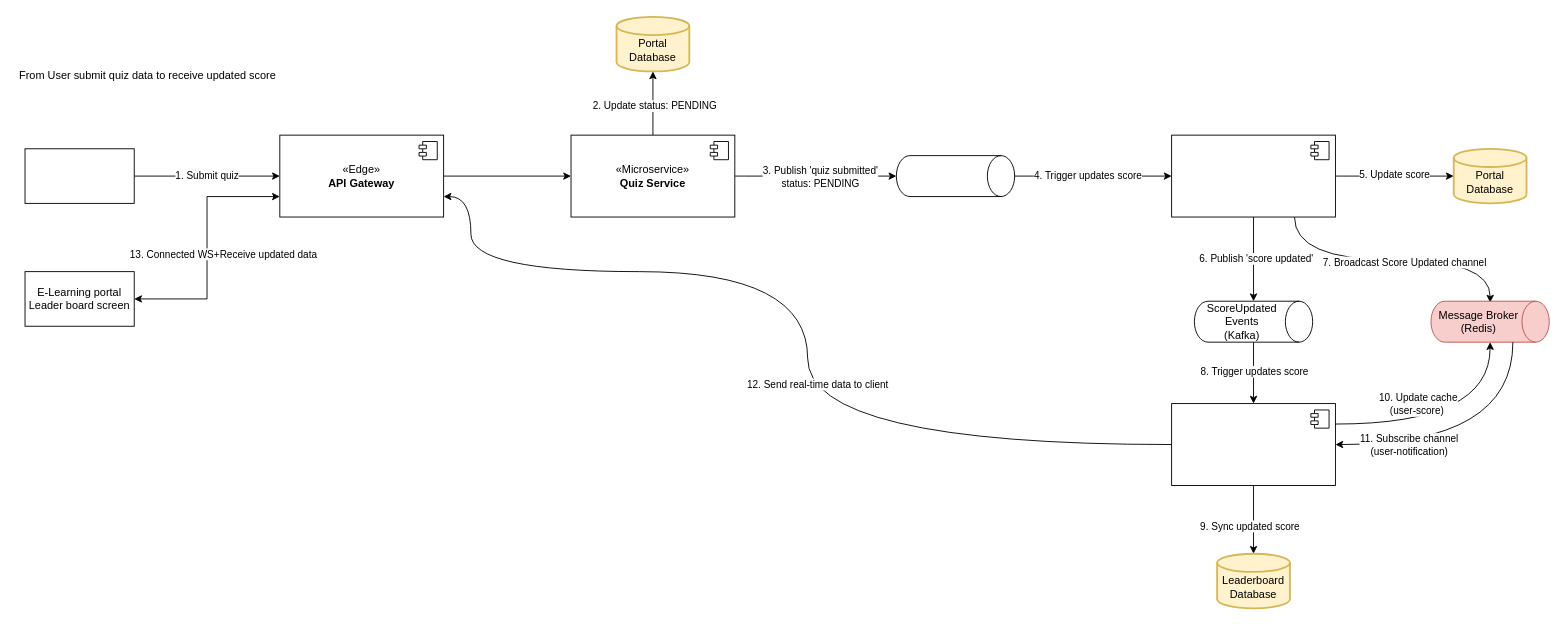
The diagram is 1565 pixels wide and 624 high, and some of its shapes have lost their labels. The shapes that lost their labels are listed below. From the top down, each one's centre as x and y in pixels, then its label:
(x=79, y=175): E-Learning portal Quiz screen
(x=955, y=176): QuizSubmitted Events (Kafka)
(x=1253, y=175): «Microservice» Score Service
(x=1253, y=444): «Microservice» Leaderboard Service
